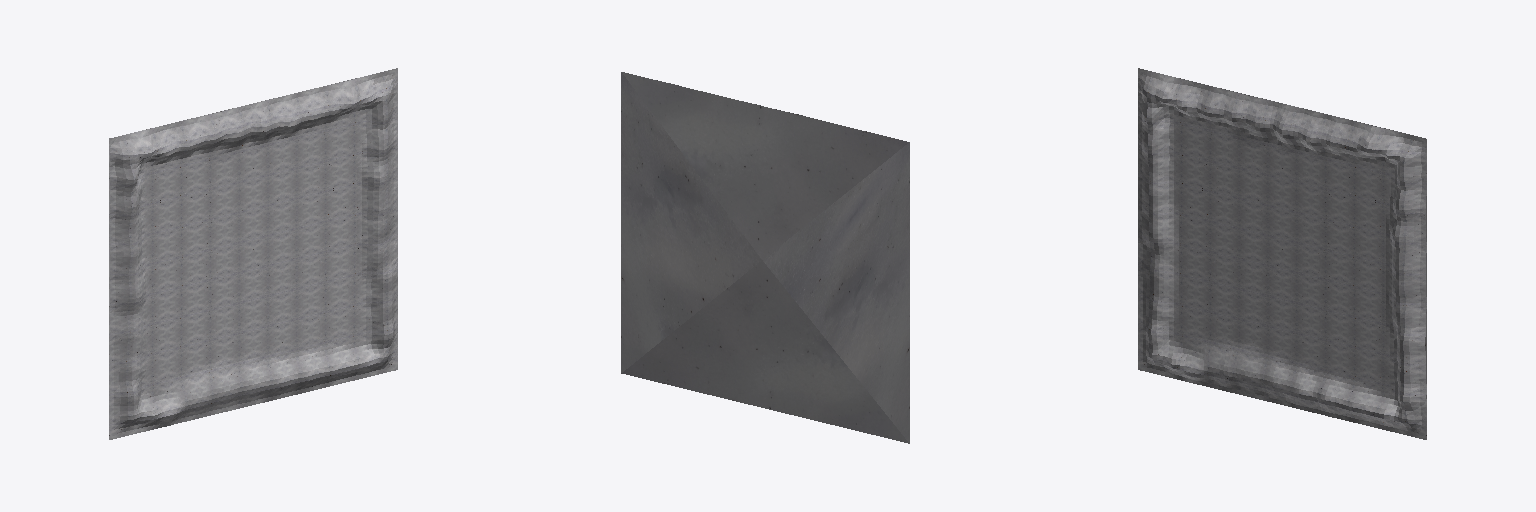
3 renders of one model, left to right at view 1: azimuth 30°, elevation 25°; view 2: azimuth 150°, elevation 25°; view 3: azimuth 330°, elevation 25°, orthographic.
Visible parts, largest first — view 1: ground2.003, ground14.001, ground7.002, ground6, ground6.002, ground4.003, ground10, ground5.001, ground7.003, ground5, ground10.002, ground15.001 (+28 smaller); view 2: back; view 3: ground4.003, ground14.003, ground2.003, ground7.003, ground3.002, ground12.003, ground13.003, ground15.001, ground16.002, ground13.001, ground16.003, ground7.002 (+28 smaller).
Part boxes in pixels (x1,y1,x2,y2): ground2.003: (109, 130, 152, 179); ground14.001: (254, 95, 294, 141); ground7.002: (181, 338, 217, 384); ground6: (109, 394, 152, 439); ground6.002: (109, 356, 145, 402); ground4.003: (362, 68, 397, 115); ground10: (181, 225, 217, 271); ground5.001: (181, 263, 217, 309); ground7.003: (218, 330, 253, 377); ground5: (181, 301, 217, 346); ground10.002: (181, 188, 217, 233); ground15.001: (362, 181, 397, 229); back: (621, 72, 909, 443); ground4.003: (1382, 130, 1426, 176); ground14.003: (1310, 112, 1353, 158); ground2.003: (1138, 68, 1173, 117); ground7.003: (1243, 321, 1281, 367); ground3.002: (1384, 394, 1426, 439); ground12.003: (1318, 338, 1354, 384); ground13.003: (1318, 263, 1354, 309); ground15.001: (1390, 244, 1426, 289); ground16.002: (1318, 225, 1354, 271); ground13.001: (1318, 301, 1354, 346); ground16.003: (1318, 188, 1354, 233); ground7.002: (1210, 312, 1245, 358).
Size of the model in its own units: 1000 by 1000 by 68.47.
1 materials, 1 textured.